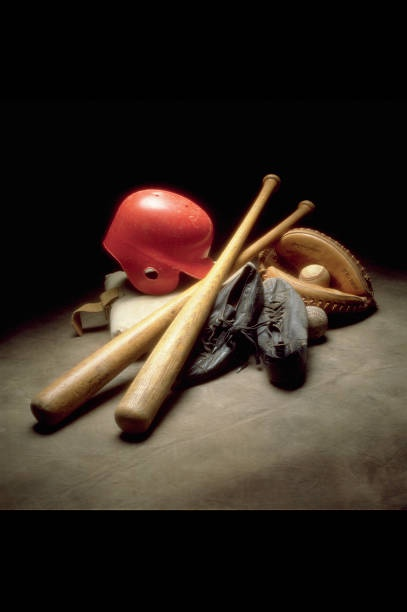bita: (34, 193, 317, 424), (115, 165, 277, 436)
